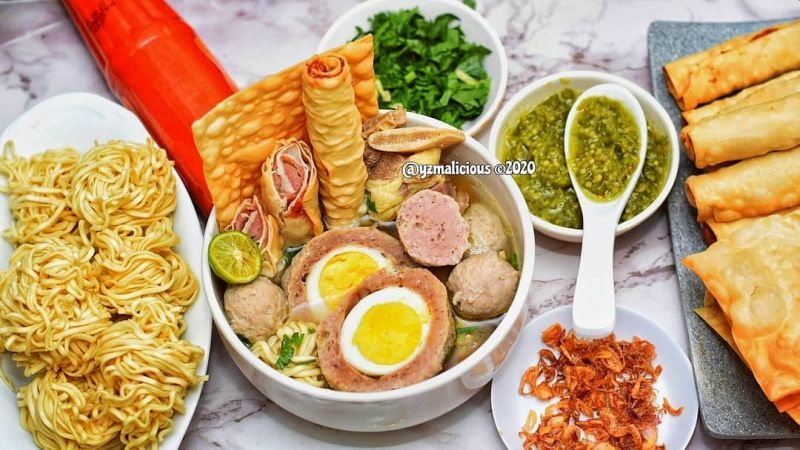bakso_malang: (208, 35, 521, 393)
